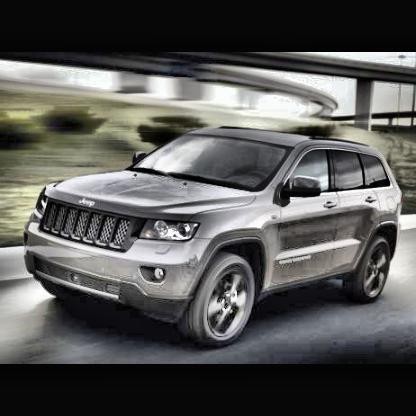Jeep Grand Cherokee SUV 2012: (25, 126, 406, 350)
